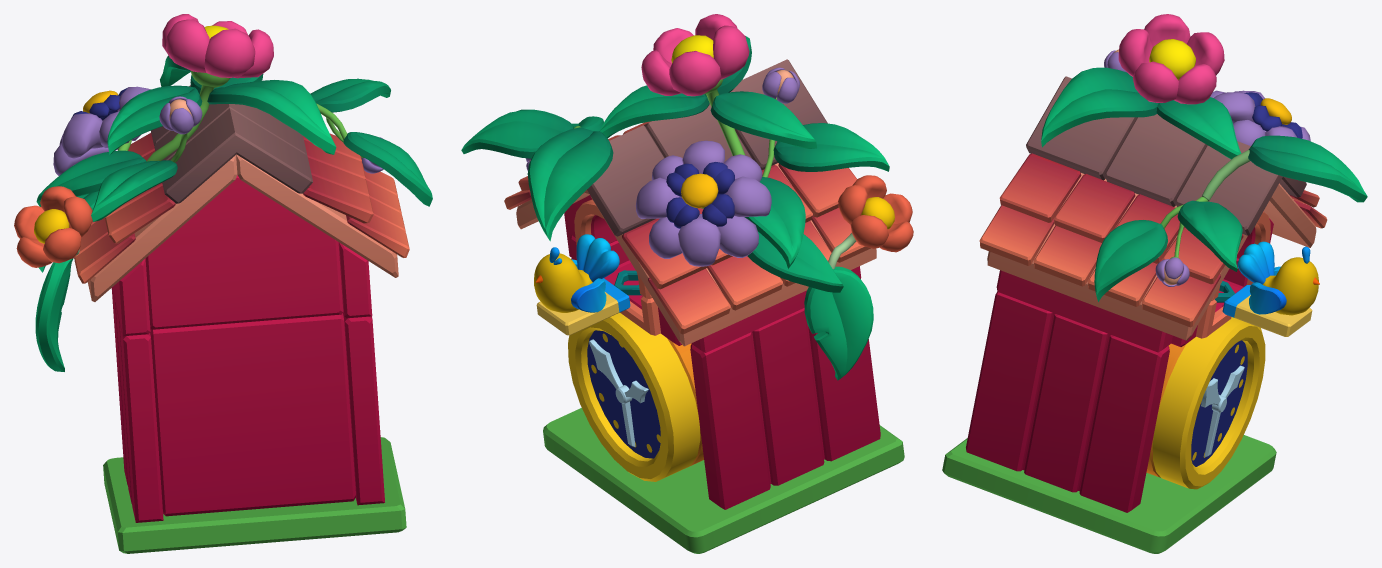
File: lvl_4.fbx
3 views of the same model, side by side, from view 1: azimuth 30°, elevation 25°; view 2: azimuth 150°, elevation 25°; view 3: azimuth 270°, elevation 25° (orthographic). The views are drawn at different scales.
Visible parts, largest first — view 1: Clocks_001, Clocks_021, Clocks_049, Clocks_036, Clocks_007, Clocks_003, Clocks_019, Clocks_026, Clocks_039, Clocks_031, Clocks_030, Clocks_020 (+15 smaller); view 2: Clocks_007, Clocks_049, Clocks_009, Clocks_042, Clocks_036, Clocks_019, Clocks_040, Clocks_045, Clocks_032, Clocks_028, Clocks_039, Clocks_038 (+16 smaller); view 3: Clocks_026, Clocks_009, Clocks_049, Clocks_039, Clocks_019, Clocks_005, Clocks_027, Clocks_006, Clocks_040, Clocks_020, Clocks_028, Clocks_032 (+11 smaller).
Part boxes in pixels (x1=…): Clocks_001: x1=150, y1=313, x2=355, y2=516; Clocks_021: x1=145, y1=175, x2=343, y2=329; Clocks_049: x1=103, y1=437, x2=406, y2=553; Clocks_036: x1=14, y1=186, x2=92, y2=371; Clocks_007: x1=111, y1=287, x2=163, y2=522; Clocks_003: x1=162, y1=108, x2=312, y2=203; Clocks_019: x1=146, y1=14, x2=273, y2=161; Clocks_026: x1=343, y1=312, x2=384, y2=505; Clocks_039: x1=310, y1=78, x2=432, y2=206; Clocks_031: x1=236, y1=154, x2=398, y2=277; Clocks_030: x1=87, y1=155, x2=237, y2=301; Clocks_020: x1=207, y1=80, x2=336, y2=154; Clocks_007: x1=690, y1=308, x2=880, y2=509; Clocks_049: x1=543, y1=407, x2=904, y2=553; Clocks_009: x1=568, y1=312, x2=700, y2=481; Clocks_042: x1=635, y1=140, x2=771, y2=266; Clocks_036: x1=804, y1=175, x2=913, y2=380; Clocks_019: x1=641, y1=14, x2=749, y2=155; Clocks_040: x1=527, y1=127, x2=613, y2=241; Clocks_045: x1=648, y1=256, x2=782, y2=334; Clocks_032: x1=534, y1=234, x2=619, y2=312; Clocks_028: x1=587, y1=125, x2=664, y2=236; Clocks_039: x1=461, y1=109, x2=603, y2=170; Clocks_038: x1=773, y1=123, x2=889, y2=171; Clocks_026: x1=966, y1=291, x2=1169, y2=512; Clocks_009: x1=1152, y1=317, x2=1265, y2=489; Clocks_049: x1=942, y1=435, x2=1276, y2=553; Clocks_039: x1=1094, y1=196, x2=1242, y2=301; Clocks_019: x1=1118, y1=14, x2=1224, y2=104; Clocks_005: x1=999, y1=153, x2=1135, y2=242; Clocks_027: x1=1104, y1=114, x2=1206, y2=206; Clocks_006: x1=979, y1=205, x2=1101, y2=286; Clocks_040: x1=1202, y1=135, x2=1367, y2=202; Clocks_020: x1=1041, y1=67, x2=1158, y2=147; Clocks_028: x1=1175, y1=141, x2=1306, y2=235; Clocks_032: x1=1237, y1=241, x2=1319, y2=315.
Size of the model in its own units: 12.07 by 13.79 by 11.43.
